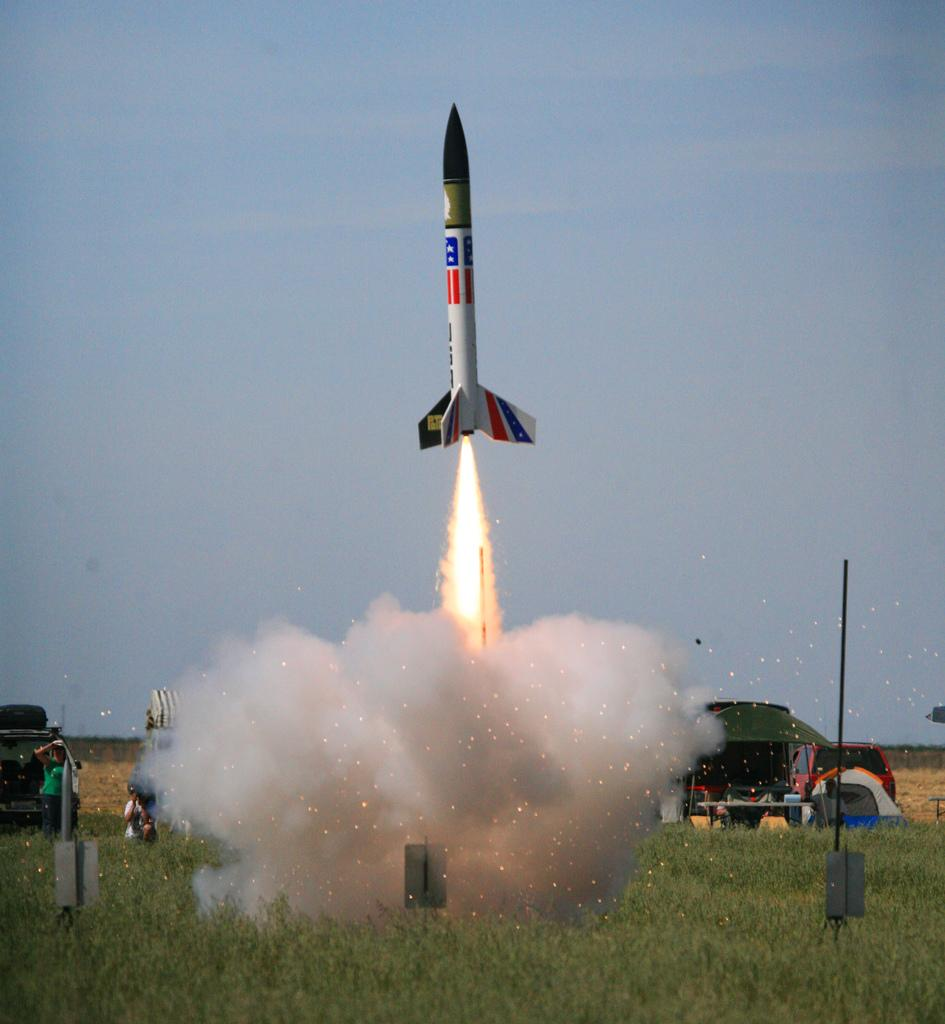Missile: (417, 100, 540, 448)
